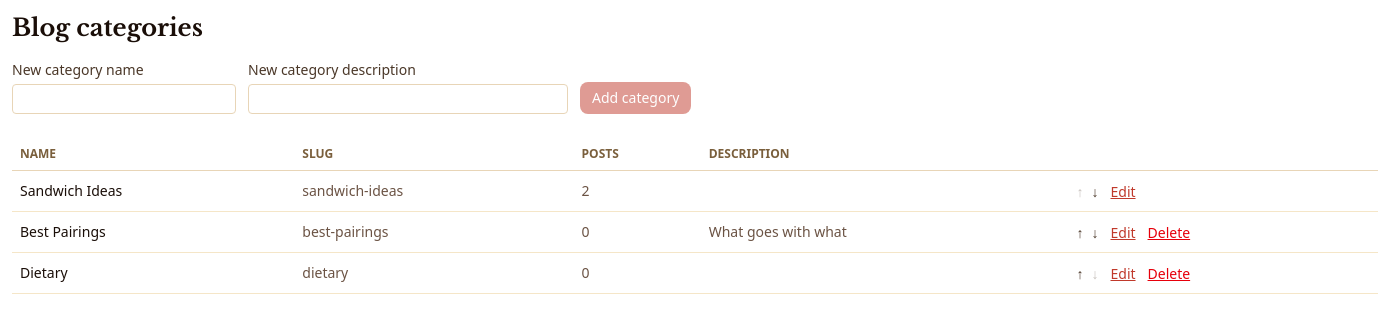
Test case: BlogCategoriesPage editing › cannot save a blank name
The width and height of the screenshot is (1378, 317).
Expected: the text "Sandwich Ideas" is shown, [12,170,294,212]
Click the button with aria-label "Edit Dietary" at (1123, 274), box [1110,264,1136,284]
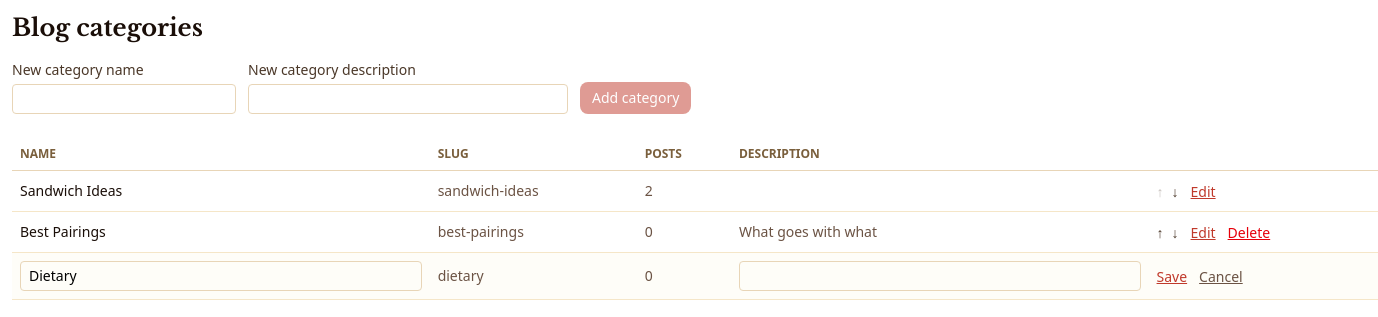
Clear the field named "Name" at (221, 276), box [20,261,422,291]
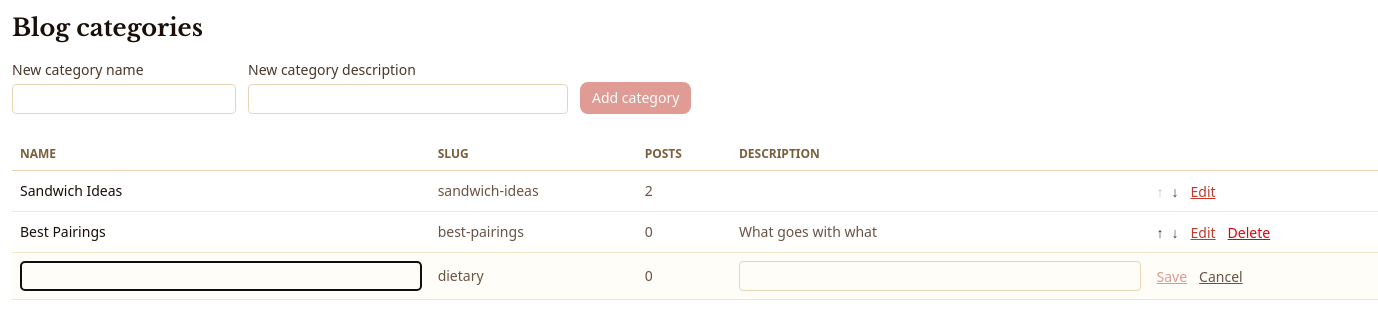
Expected: the button "Save" is disabled, [1156,267,1187,287]
